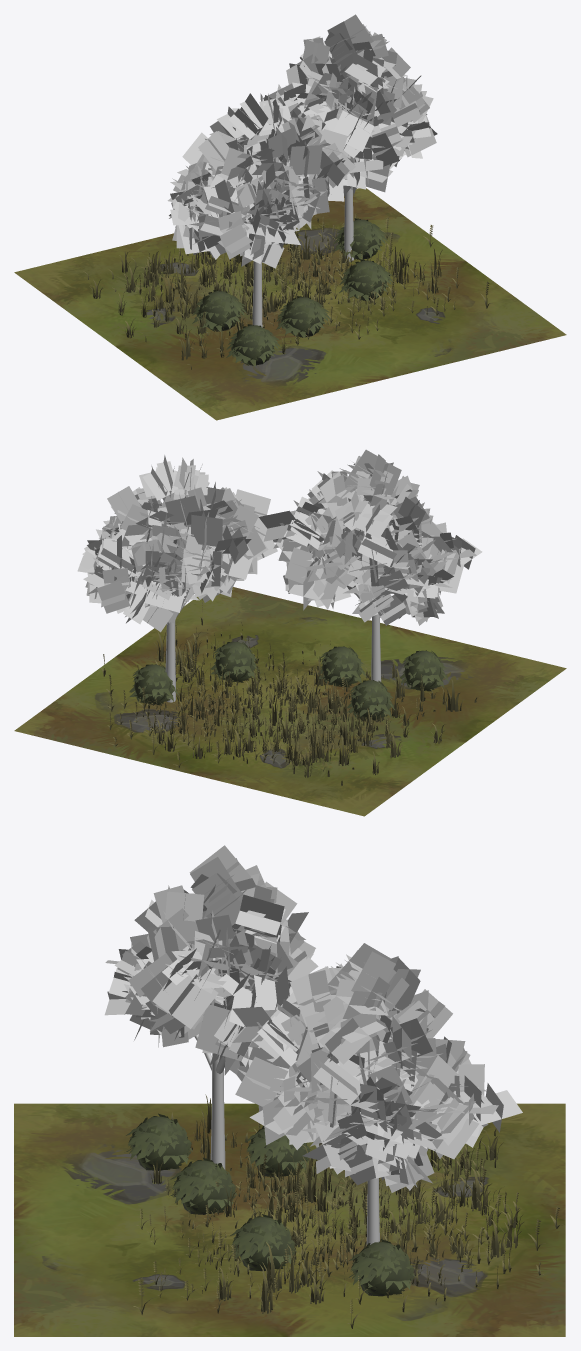
3 renders of one model, top to bottom at view 1: azimuth 30°, elevation 25°; view 2: azimuth 150°, elevation 25°; view 3: azimuth 270°, elevation 25°, orthographic. The views are drawn at different scales.
Visible parts, largest first — view 1: MASH3_ReproMesh1; view 2: MASH3_ReproMesh1; view 3: MASH3_ReproMesh1.
Boxes of the visible parts, bbox=[...] form: MASH3_ReproMesh1: bbox=[14, 14, 566, 420]; MASH3_ReproMesh1: bbox=[14, 449, 566, 816]; MASH3_ReproMesh1: bbox=[14, 845, 565, 1336].
Bounding box in the file's own units: 1416 × 970 × 1419.
